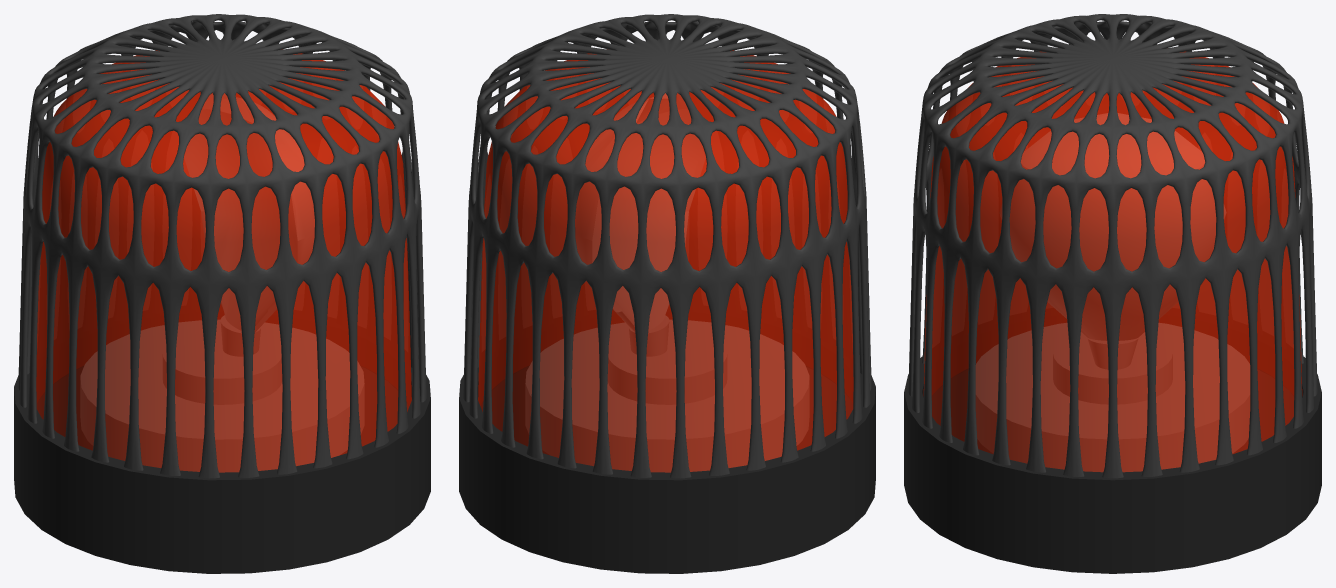
File: alarmLight.fbx
3 renders of one model, left to right at view 1: azimuth 30°, elevation 25°; view 2: azimuth 150°, elevation 25°; view 3: azimuth 270°, elevation 25°, orthographic.
Visible parts, largest first — view 1: Cage, Glass, Rotator, Socket_001; view 2: Cage, Glass, Rotator, Socket_001; view 3: Cage, Glass, Rotator, Socket_001.
Boxes of the visible parts, x1,y1,x2,y2 form: Cage: [18, 14, 426, 478]; Glass: [36, 49, 411, 472]; Rotator: [14, 366, 430, 573]; Socket_001: [81, 93, 363, 471]; Cage: [463, 14, 871, 478]; Glass: [478, 49, 853, 472]; Rotator: [459, 366, 875, 573]; Socket_001: [526, 93, 808, 471]; Cage: [908, 14, 1317, 478]; Glass: [923, 51, 1302, 472]; Rotator: [904, 356, 1321, 573]; Socket_001: [976, 113, 1249, 471].
Bounding box in the file's own units: 0.5 × 0.5654 × 0.5.
